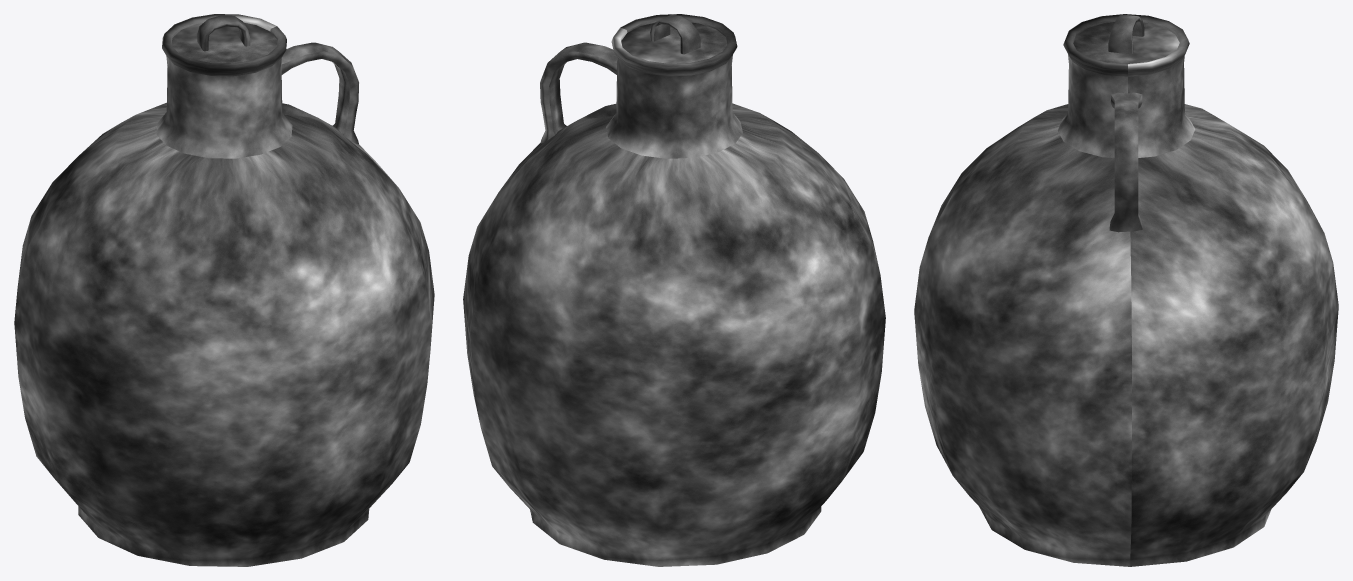
The model's file is SM_vase_01.fbx.
The picture shows the model from 3 angles, left to right: view 1: azimuth 30°, elevation 25°; view 2: azimuth 150°, elevation 25°; view 3: azimuth 270°, elevation 25°; orthographic projection.
Visible parts, largest first — view 1: SM_vase_01_LOD0; view 2: SM_vase_01_LOD0; view 3: SM_vase_01_LOD0.
Boxes of the visible parts, x1,y1,x2,y2 form: SM_vase_01_LOD0: (14,14,434,566); SM_vase_01_LOD0: (463,14,885,566); SM_vase_01_LOD0: (914,14,1338,566).
Size of the model in its own units: 92.4 by 92.4 by 117.
